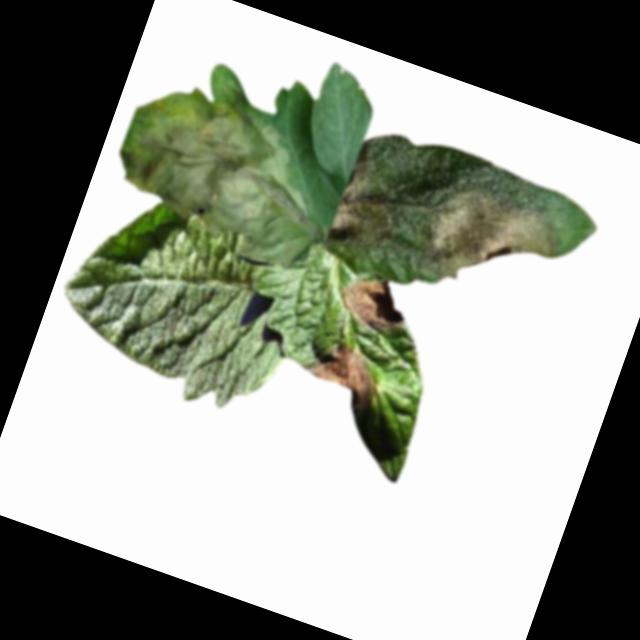Late_blight: (102, 42, 356, 272), (412, 150, 578, 313), (326, 134, 421, 261), (295, 333, 390, 417), (329, 265, 419, 345)
